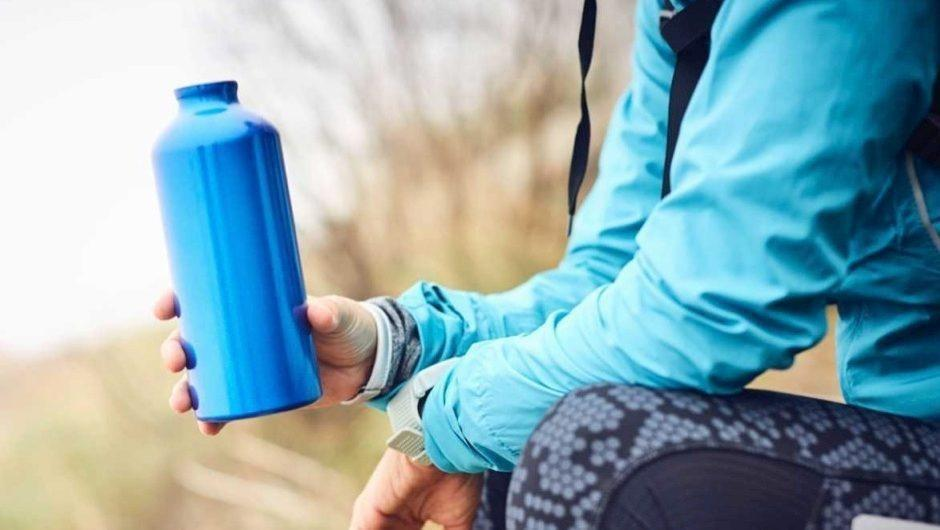gym bottle: (151, 73, 322, 424)
